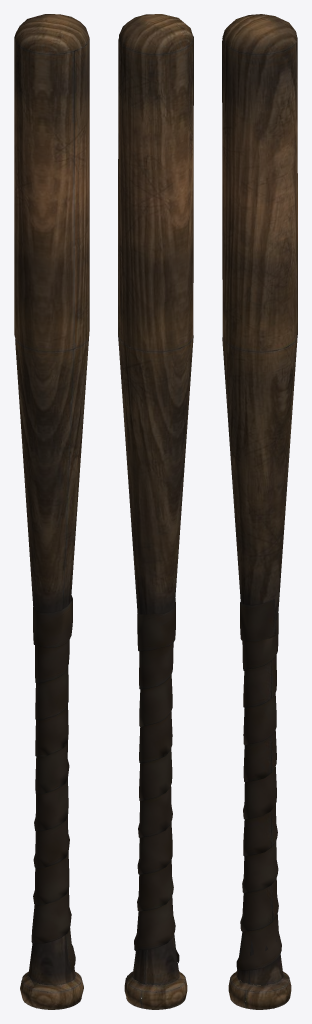
File: baseball_bat.glb
3 renders of one model, left to right at view 1: azimuth 90°, elevation 25°; view 2: azimuth 150°, elevation 25°; view 3: azimuth 330°, elevation 25°, orthographic.
Parts seen in each view (by area): view 1: baseball_bat; view 2: baseball_bat; view 3: baseball_bat.
Boxes of the visible parts, <box> form: baseball_bat: <box>14,14,89,1009</box>; baseball_bat: <box>118,14,193,1009</box>; baseball_bat: <box>222,14,297,1009</box>.
Size of the model in its own units: 0.0637 by 0.9133 by 0.0638.
Materials: 1 (1 with a texture image).
